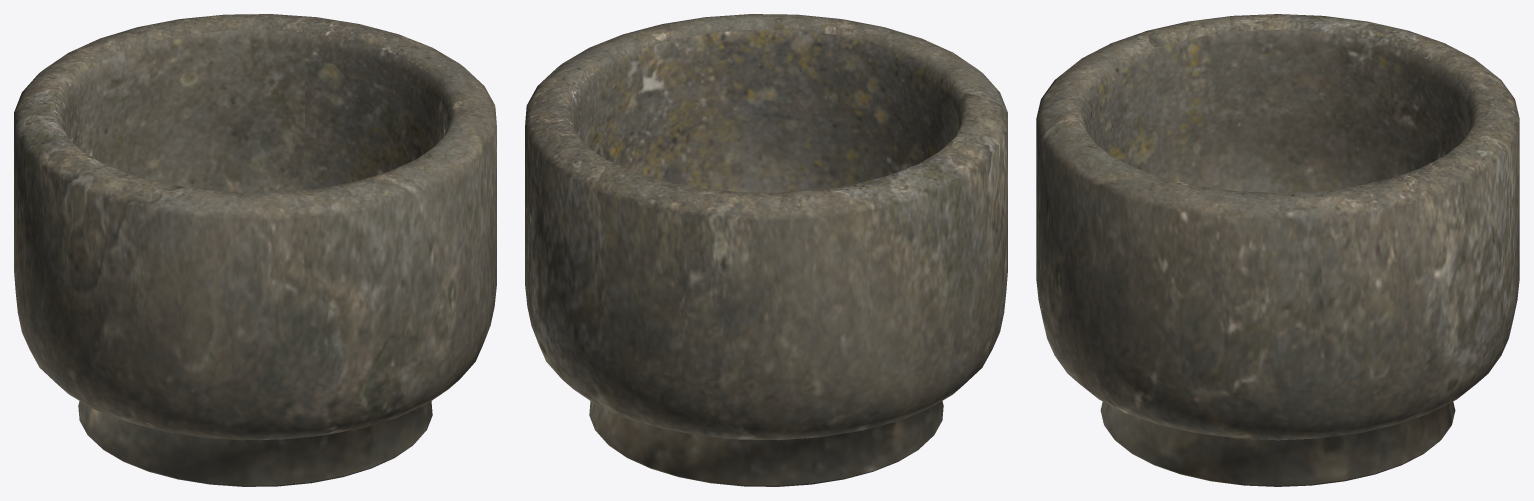
File: mortar.fbx
The picture shows the model from 3 angles, left to right: view 1: azimuth 30°, elevation 25°; view 2: azimuth 150°, elevation 25°; view 3: azimuth 270°, elevation 25°; orthographic projection.
Parts seen in each view (by area): view 1: mortar; view 2: mortar; view 3: mortar.
Boxes of the visible parts, x1,y1,x2,y2 form: mortar: (14,14,496,486); mortar: (525,14,1007,486); mortar: (1036,14,1519,486).
Bounding box in the file's own units: 136 × 95.92 × 136.
1 material, 1 textured.
